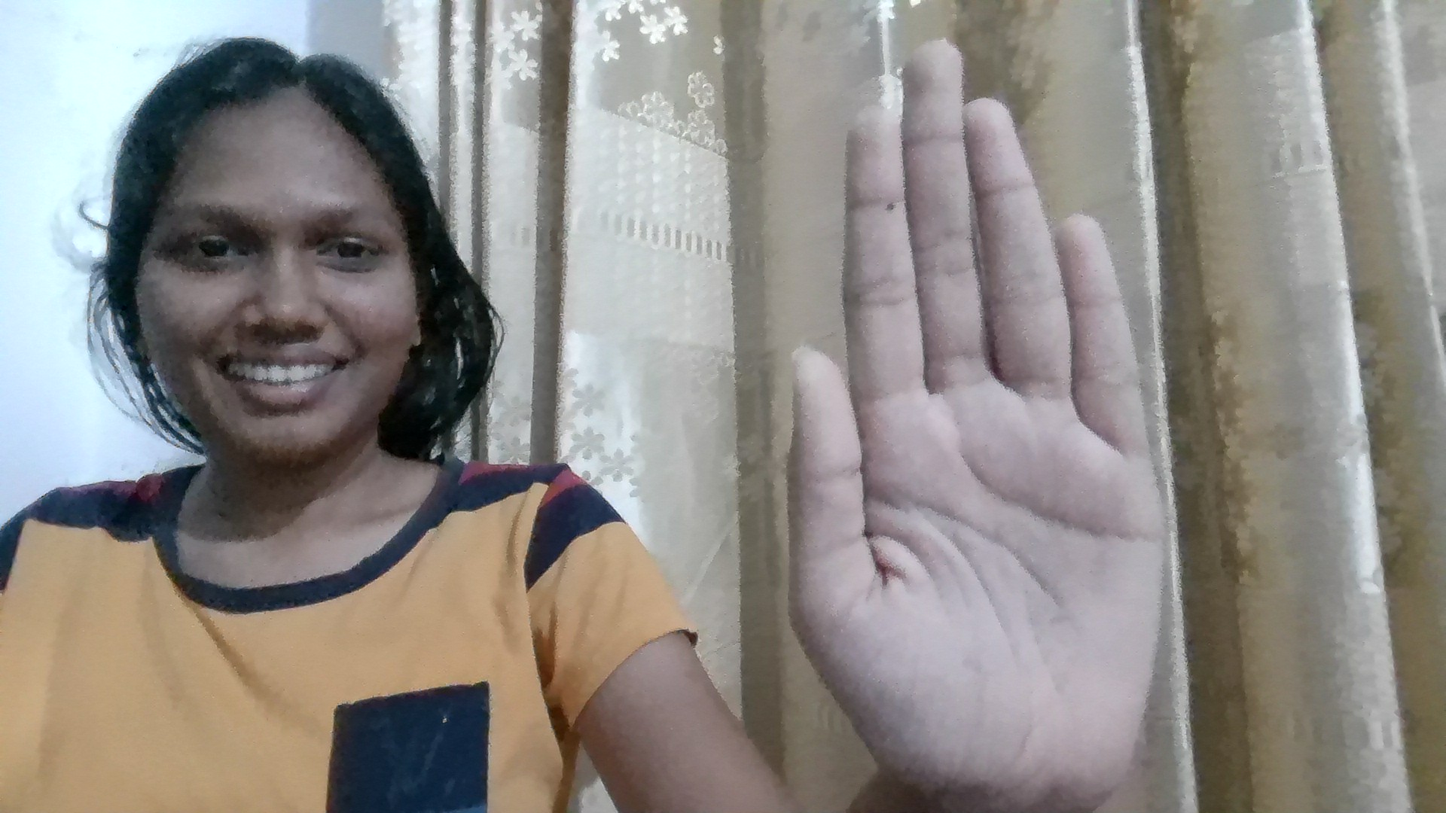Hello: (731, 24, 1250, 797)
